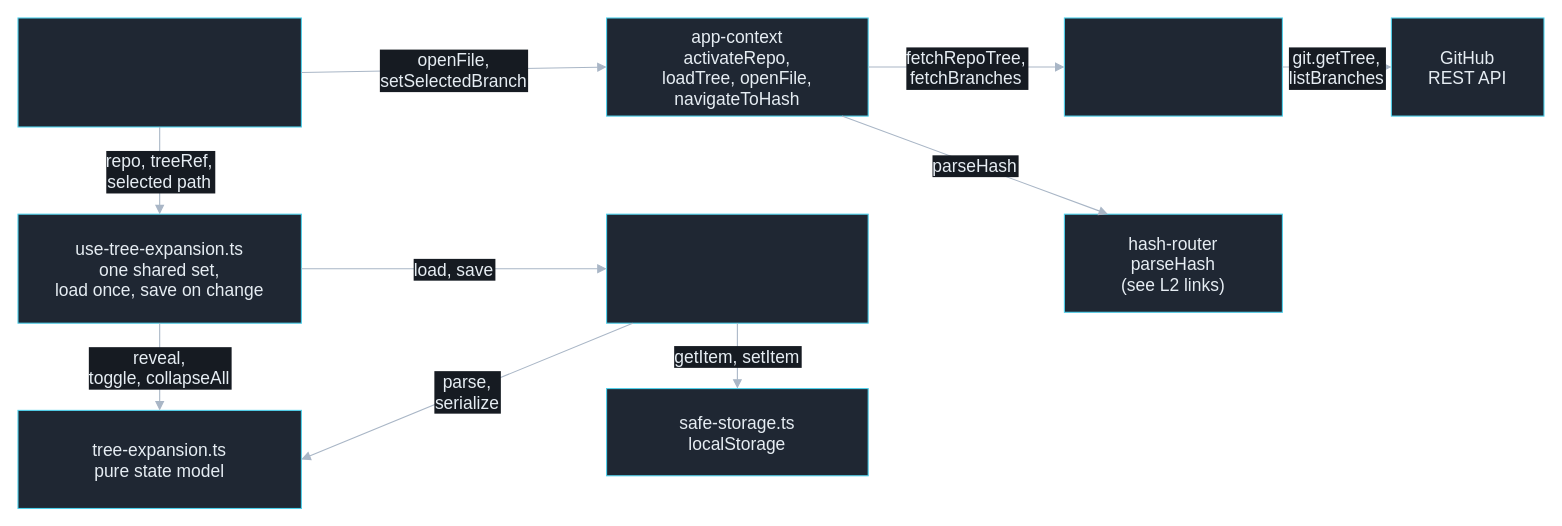
The diagram is 1562 pixels wide and 526 high, and some of its shapes have lost their labels. Here are the shapes that lost their labels. From the top down, the centre of each, then its label:
pixel 159 72: Sidebar FileTreeItem, branch selector
pixel 1172 66: github-api fetchRepoTree, fetchBranches
pixel 736 268: expansion-store.ts adapter: key, size bound
